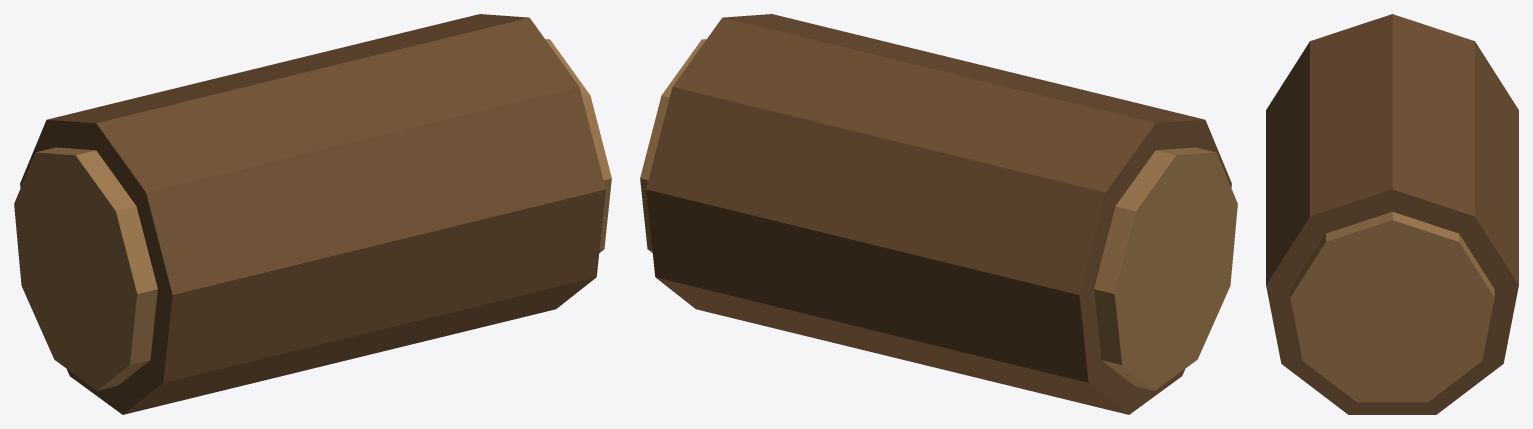
The model's file is log_marker.glb.
The picture shows the model from 3 angles, left to right: view 1: azimuth 30°, elevation 25°; view 2: azimuth 150°, elevation 25°; view 3: azimuth 270°, elevation 25°; orthographic projection. The views are drawn at different scales.
Visible parts, largest first — view 1: LogMarker; view 2: LogMarker; view 3: LogMarker.
Boxes of the visible parts, x1,y1,x2,y2 form: LogMarker: (14,14,611,414); LogMarker: (640,14,1237,414); LogMarker: (1266,14,1518,414).
Size of the model in its own units: 0.9486 by 0.52 by 0.528.
